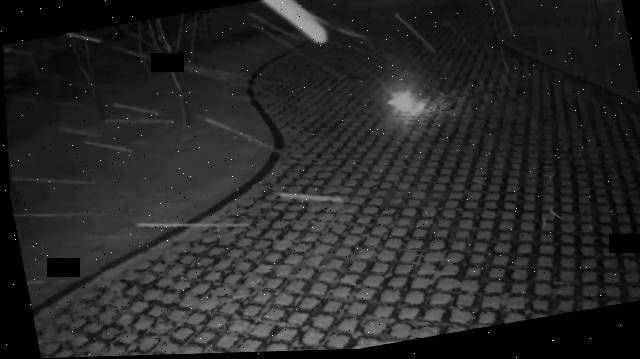fire: (386, 90, 418, 116)
